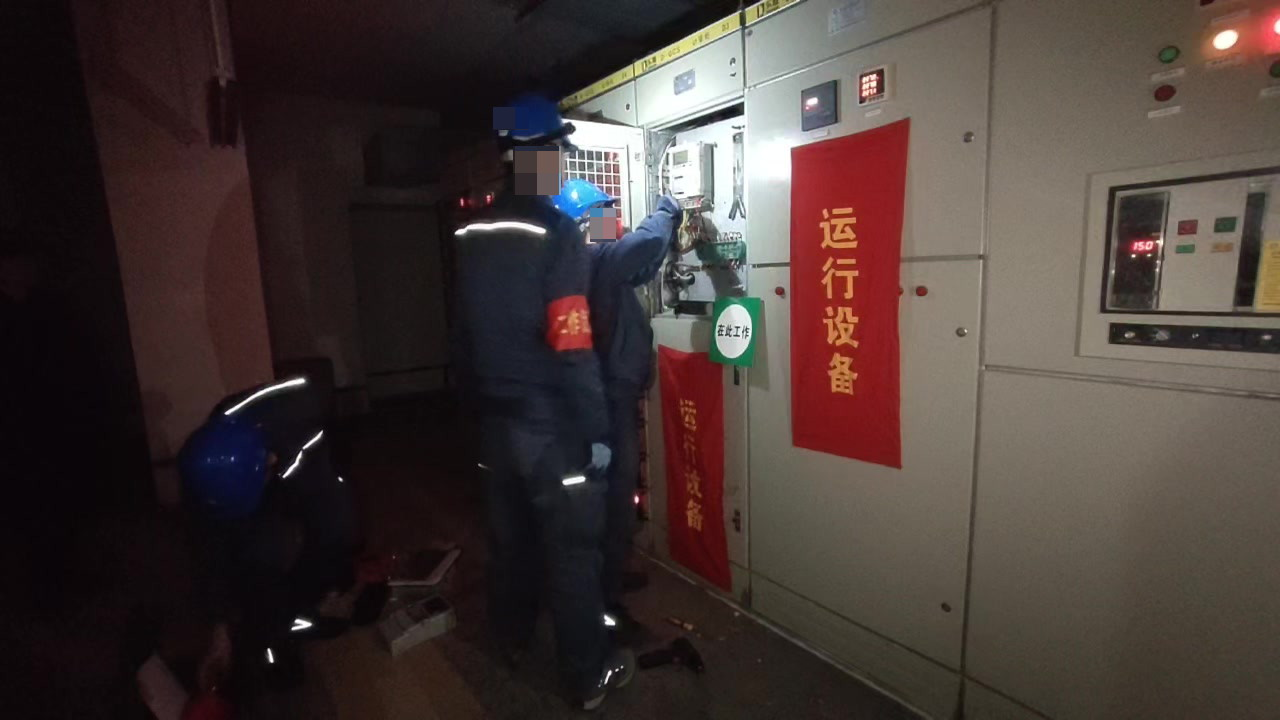badge: (543, 292, 597, 356)
downsuit: (472, 436, 616, 660)
glove: (584, 441, 614, 474)
halt: (494, 93, 577, 186), (189, 428, 272, 511), (549, 177, 625, 237)
inear: (531, 138, 564, 180), (583, 213, 608, 241)
person: (445, 83, 628, 699), (173, 382, 365, 680), (558, 169, 671, 566)
upsuit: (448, 191, 620, 438), (596, 236, 662, 388)
worksign: (711, 295, 755, 365)
